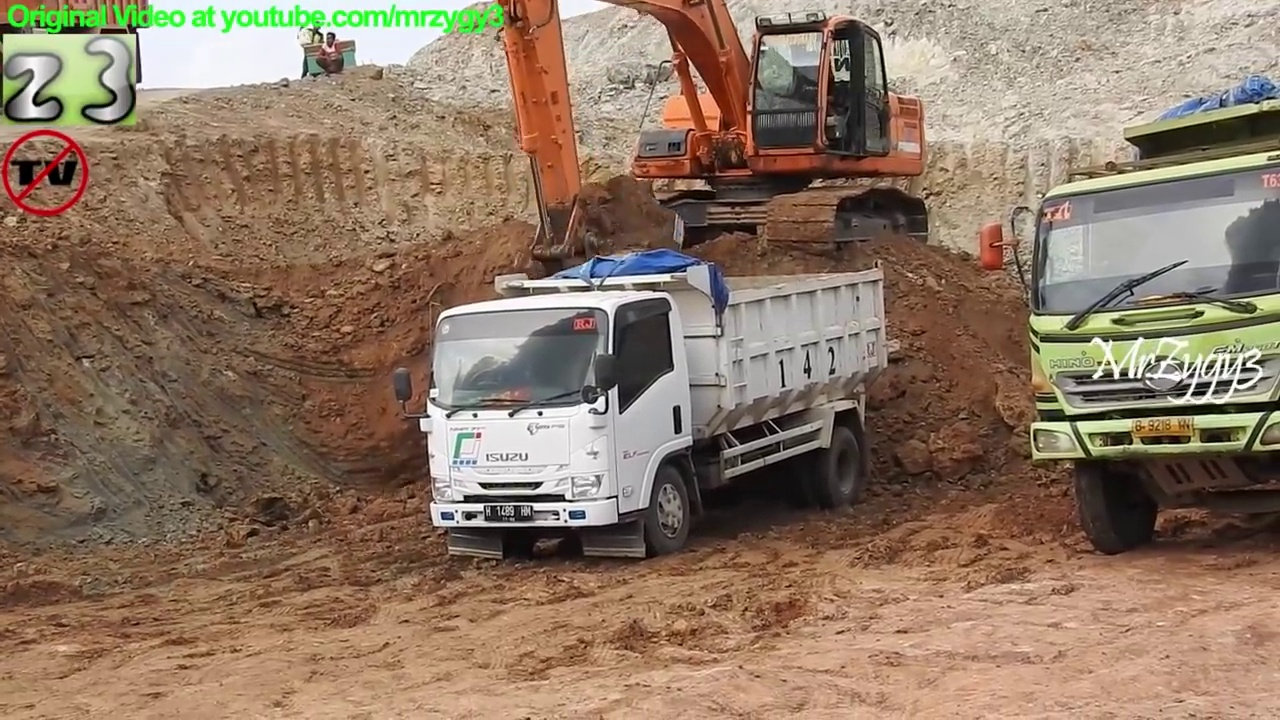excavator: (490, 2, 932, 258)
truck: (398, 260, 890, 553), (977, 88, 1272, 562)
